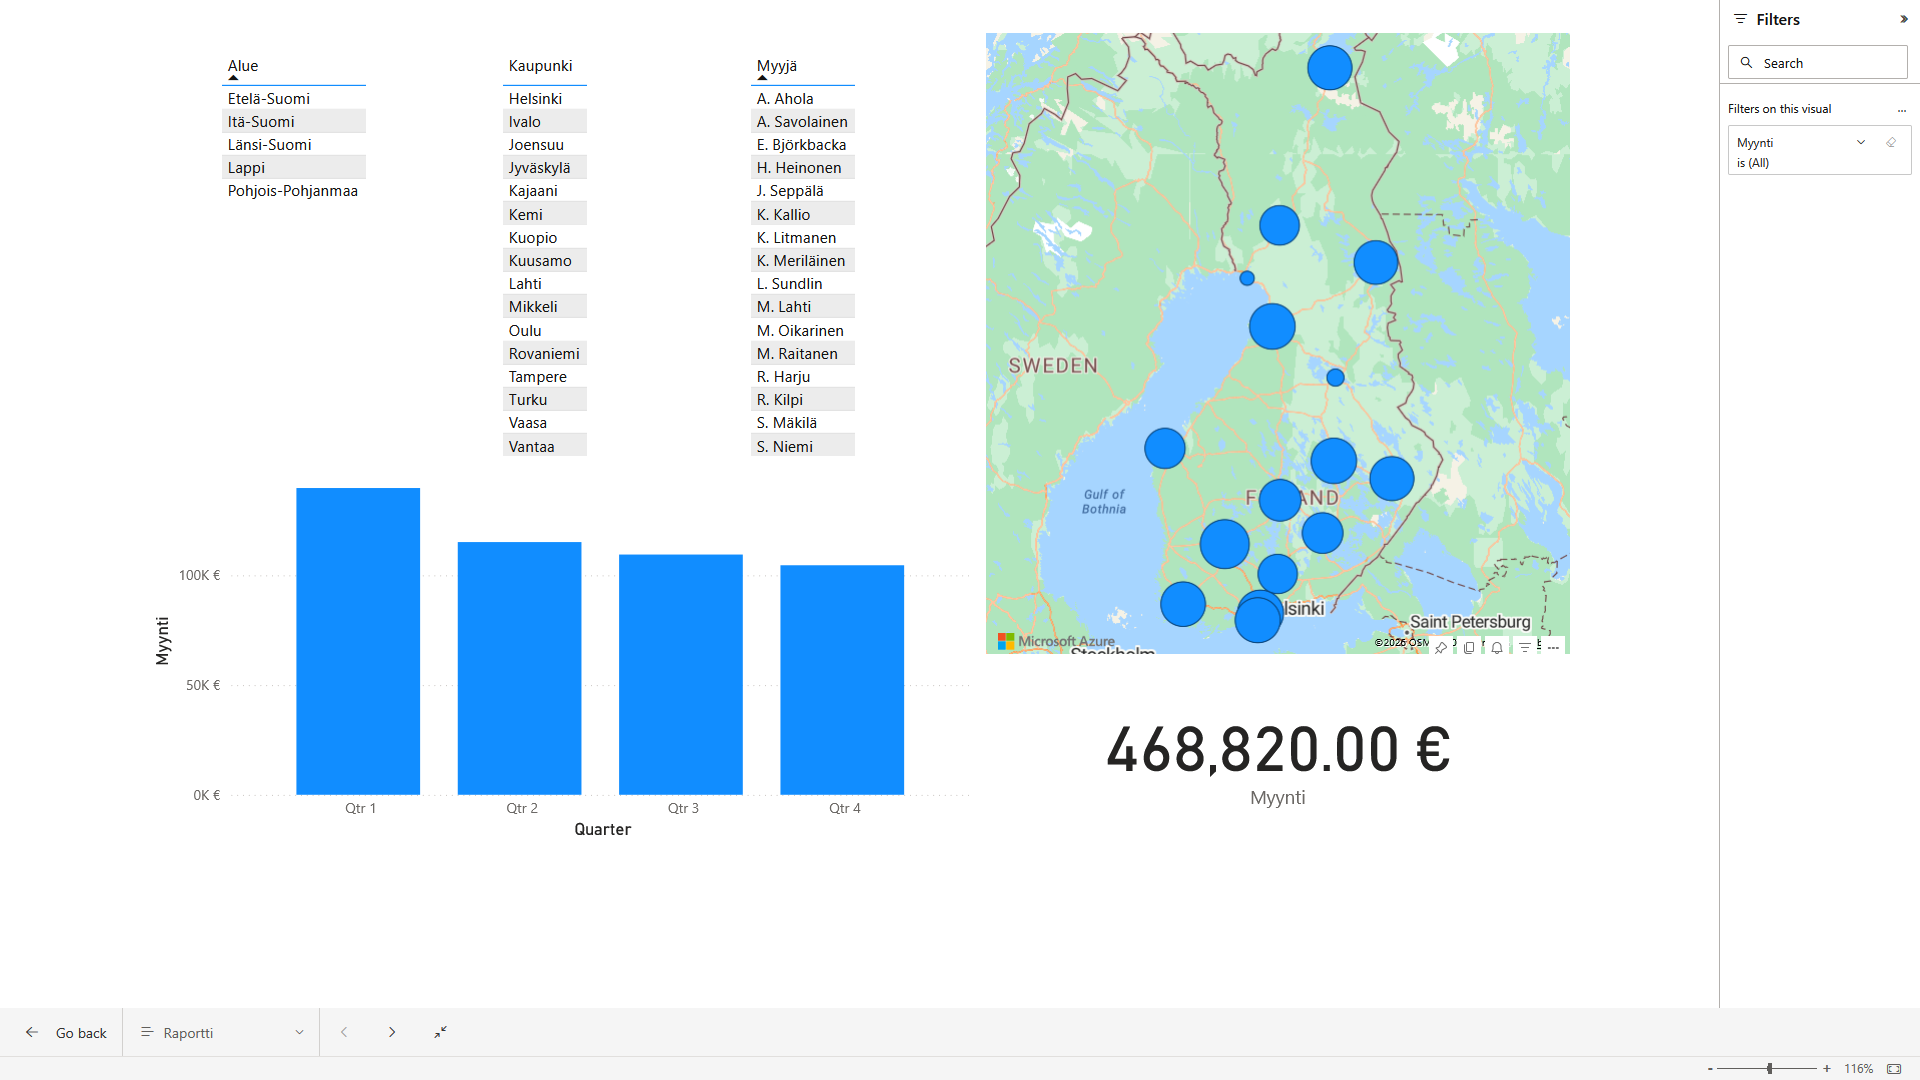

This screenshot's page, from the dashboard's own definition file:
{"tool":"powerbi","page":{"name":"Raportti","canvas":[1280,720],"ordinal":0},"visuals":[{"type":"azureMap","fields":{"Category":["Myyjät.Kaupunki"],"Size":["Sum(Myynti.Myynti)"]},"box":[744.1,14.6,513.6,545.7],"z":0},{"type":"card","fields":{"Values":["Sum(Myynti.Myynti)"]},"box":[752.8,560.2,496,159.5],"z":1000},{"type":"columnChart","fields":{"Category":["Myynti.Pvm.Variation.Date Hierarchy.Quarter"],"Y":["Sum(Myynti.Myynti)"]},"box":[26.3,397.8,717.8,321.9],"z":2000},{"type":"tableEx","fields":{"Values":["Myyjät.Alue"]},"box":[84.6,33.1,145.9,335.6],"z":3000},{"type":"tableEx","fields":{"Values":["Myyjät.Kaupunki"]},"box":[326.8,33.1,108.9,364.7],"z":4000},{"type":"tableEx","fields":{"Values":["Myyjät.Myyjä"]},"box":[540.8,33.1,137.1,364.7],"z":5000}]}

Visuals, with their boxes on the page's 1280x720 design canvas (x1, y1, x2, y2). These are canvas units, not pixel positions in the 1920x1080 screenshot, which may show the page scaled, cropped or inside an application window:
azureMap - Myyjät.Kaupunki x Sum(Myynti.Myynti): <bbox>744, 15, 1258, 560</bbox>
card - Sum(Myynti.Myynti): <bbox>753, 560, 1249, 720</bbox>
columnChart - Myynti.Pvm.Variation.Date Hierarchy.Quarter x Sum(Myynti.Myynti): <bbox>26, 398, 744, 720</bbox>
tableEx - Myyjät.Alue: <bbox>85, 33, 230, 369</bbox>
tableEx - Myyjät.Kaupunki: <bbox>327, 33, 436, 398</bbox>
tableEx - Myyjät.Myyjä: <bbox>541, 33, 678, 398</bbox>
